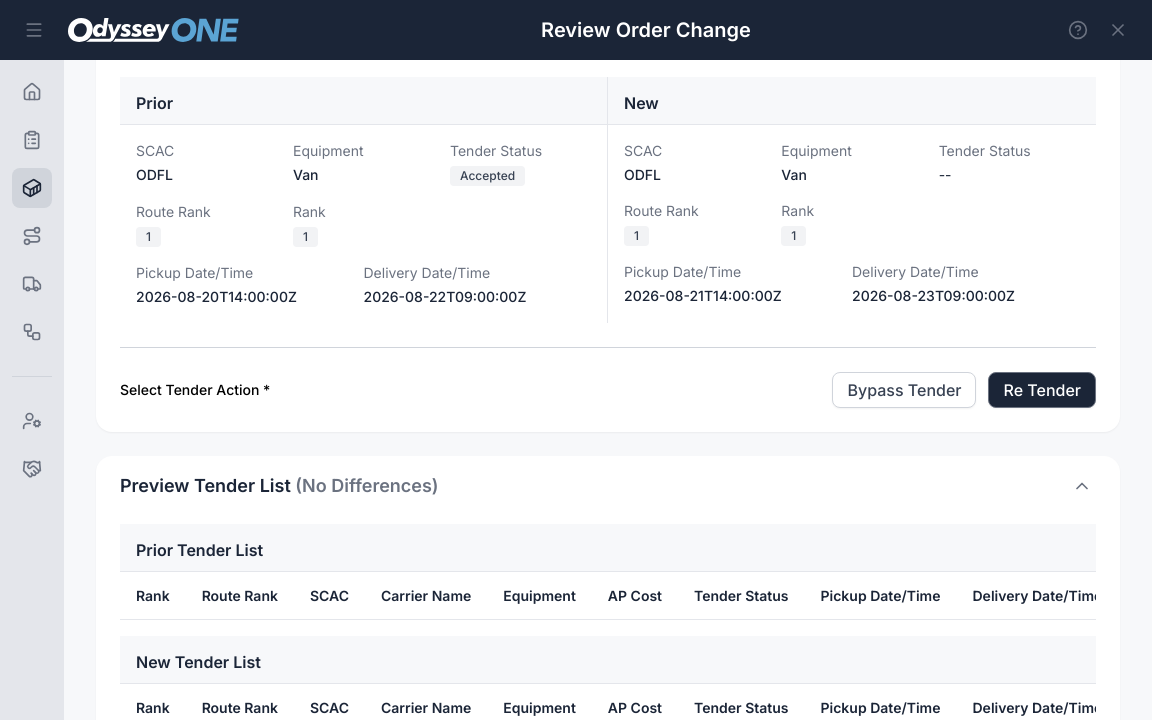
Test: OrderChangeReviewRoute — action confirmations › Re-Tender names the carrier, the selected cost and the outbound tender
The width and height of the screenshot is (1152, 720).
(page scrolled)
What coordinates should you click on to do the following:
click the button "Re Tender"
I would click on:
 (1042, 390)
Its box is x1=988 y1=372 x2=1096 y2=408.
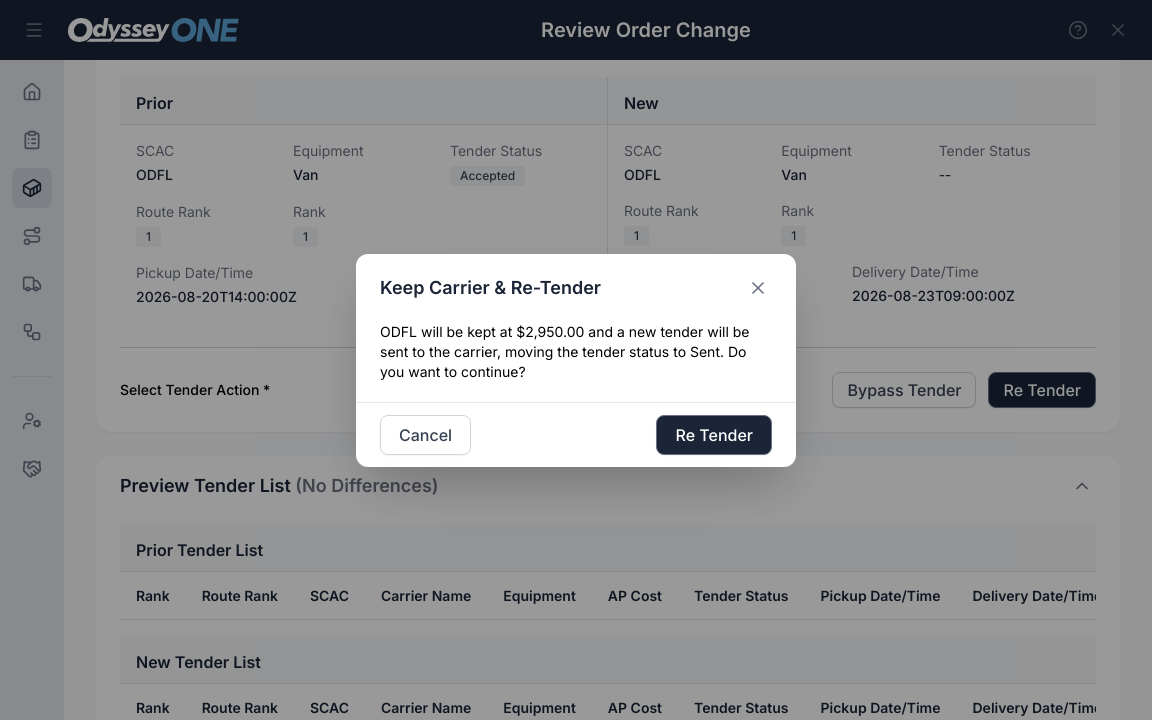
Expected: the text "Keep Carrier & Re-Tender" is shown, x1=380 y1=276 x2=601 y2=300
Expected: the text "sent to the carrier" is shown, x1=380 y1=322 x2=750 y2=380
